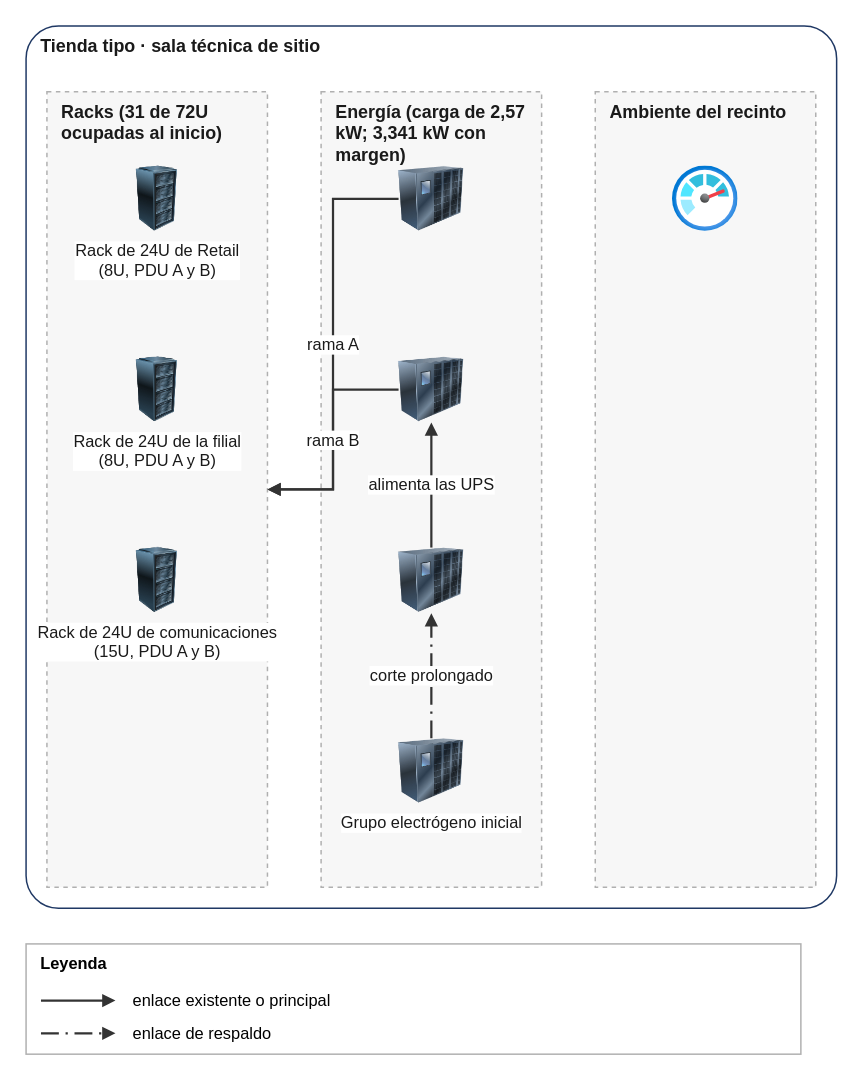
This 863x1080 diagram has some shape labels left out. Here are the shapes that lost their labels. From the top down, the centre of each, then its label:
point (430, 198): UPS de 6 kVA, rama A (30 minutos)
point (705, 198): Climatización y sensores de temperatura, humedad y energía
point (430, 389): UPS de 6 kVA, rama B (30 minutos)
point (430, 579): Transferidor automático
